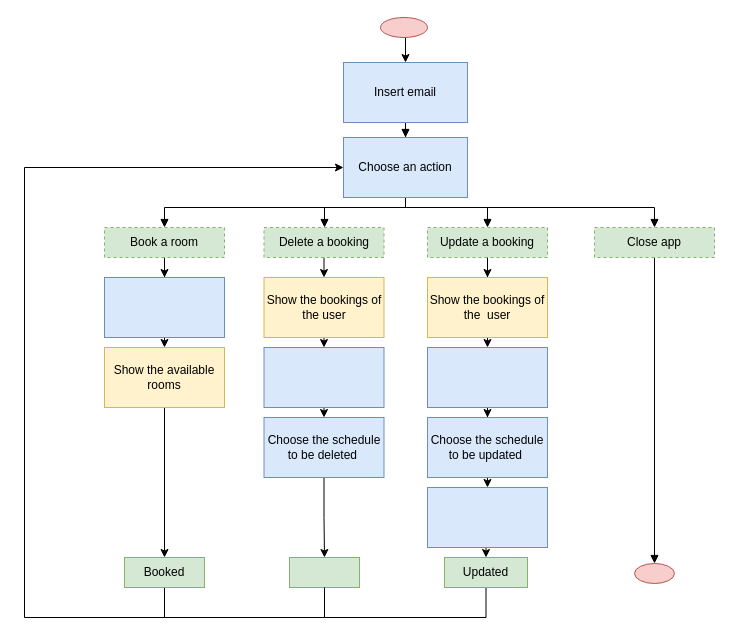
Some shapes in this 732 by 643 pixel diagram are drawn without their labels. The box of each missing label's shape, as (x1, y1, x2, y2) in pixels:
Choose a schedule: (104, 276, 224, 338)
Choose the new schedule: (426, 486, 548, 548)
Choose the room id to be deleted: (263, 346, 384, 408)
Choose the room id to be updated: (426, 346, 548, 408)
Deleted: (288, 556, 360, 588)
end: (634, 562, 674, 584)
start: (380, 16, 428, 38)
